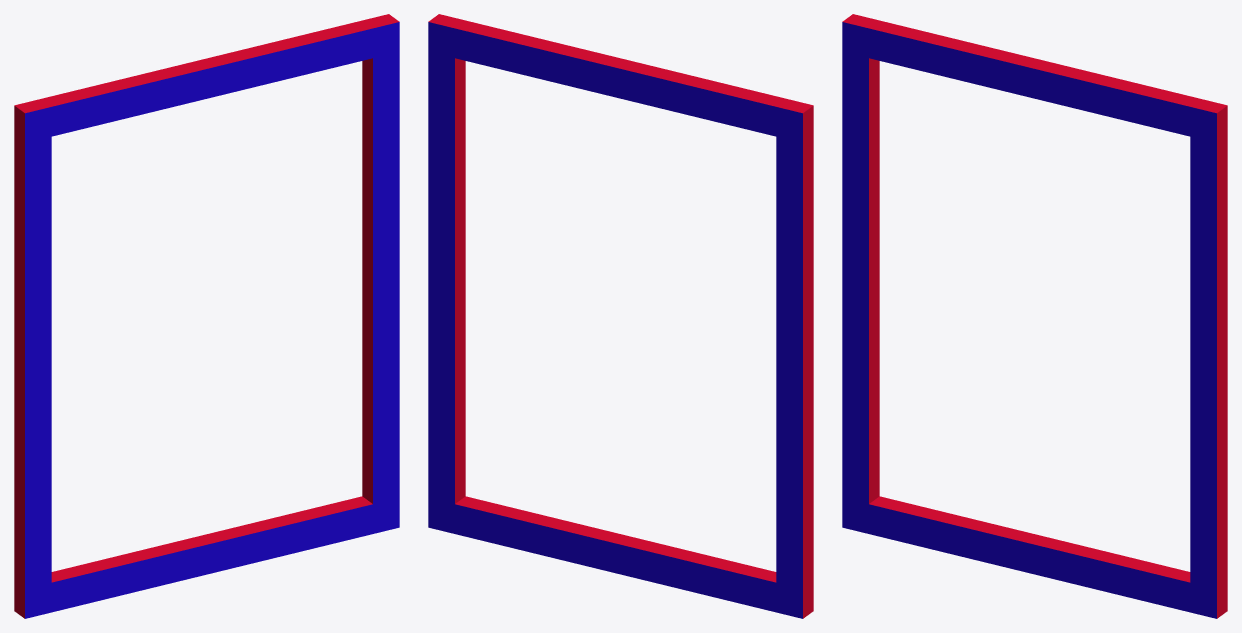
The model's file is wallWindow2.fbx.
3 renders of one model, left to right at view 1: azimuth 30°, elevation 25°; view 2: azimuth 150°, elevation 25°; view 3: azimuth 330°, elevation 25°, orthographic.
Parts seen in each view (by area): view 1: wallWindow2; view 2: wallWindow2; view 3: wallWindow2.
Part boxes in pixels (x1=…): wallWindow2: x1=14, y1=14, x2=399, y2=618; wallWindow2: x1=428, y1=14, x2=813, y2=618; wallWindow2: x1=842, y1=14, x2=1227, y2=618.
Size of the model in its own units: 1000 by 1290 by 50.
